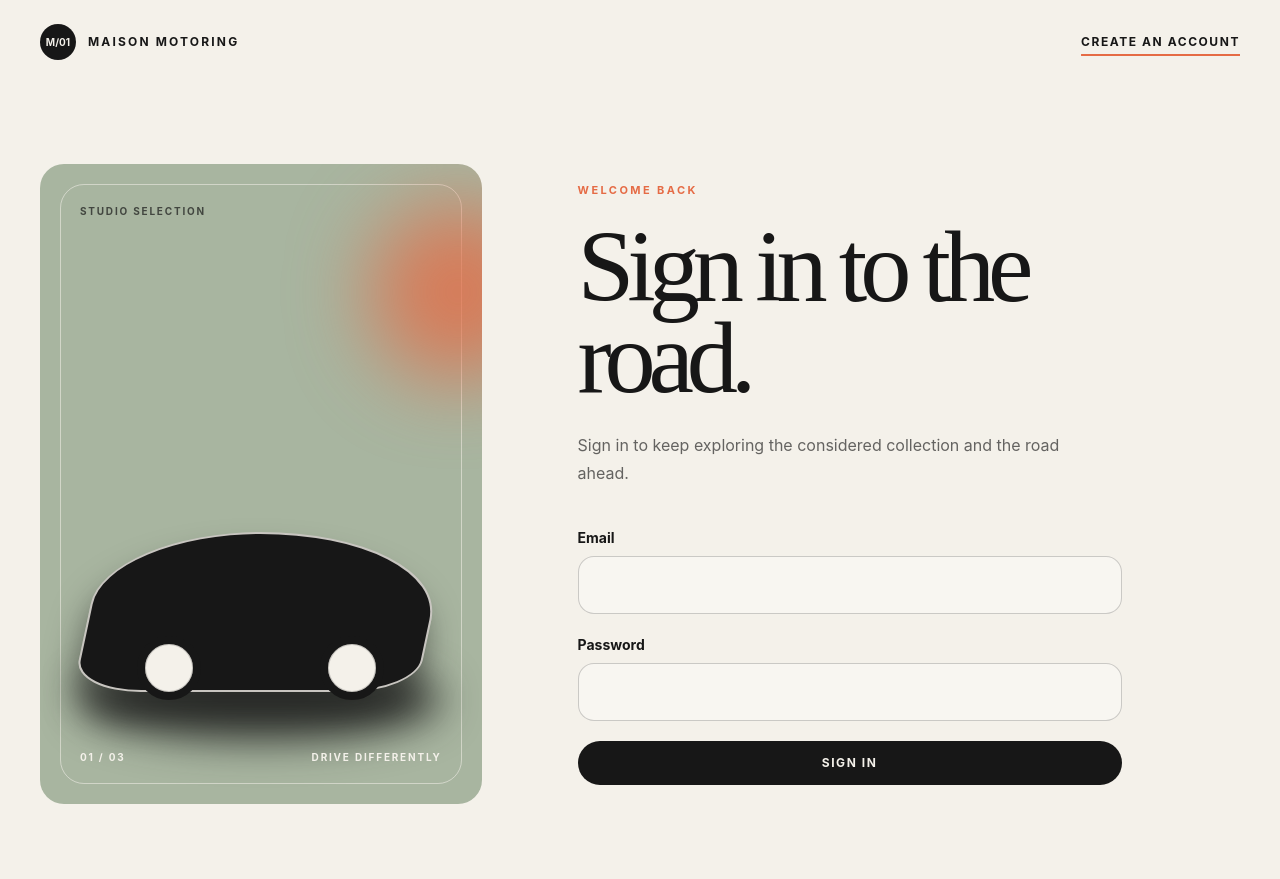
Test: frontend authentication › stores the JWT and safe user metadata after login, then opens inventory
Type "ada@example.test" into the field labelled "Email".
click(850, 585); type("ada@example.test")  # box [578, 556, 1122, 614]
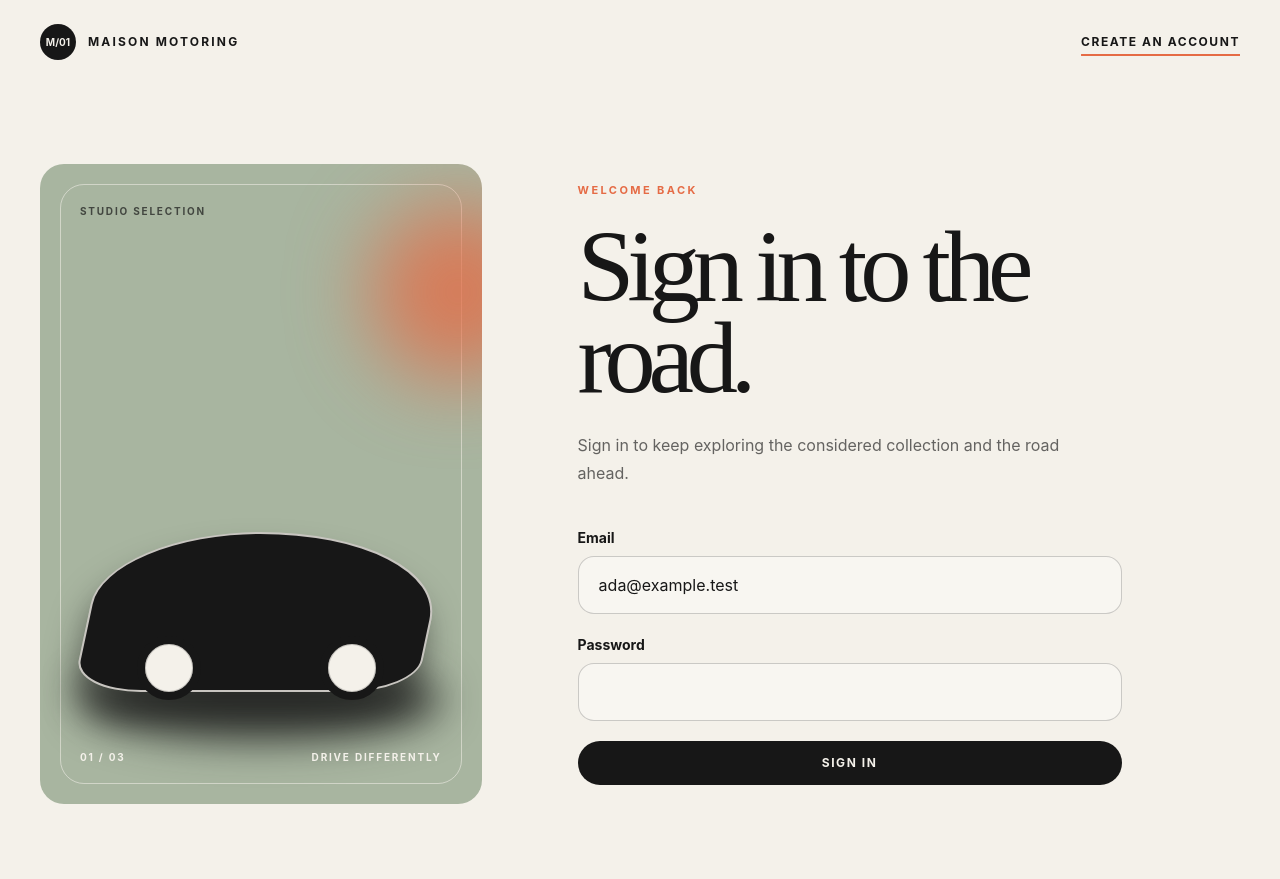
Type "SecurePass1" into the password field labelled "Password".
click(850, 692); type("SecurePass1")  # box [578, 663, 1122, 721]
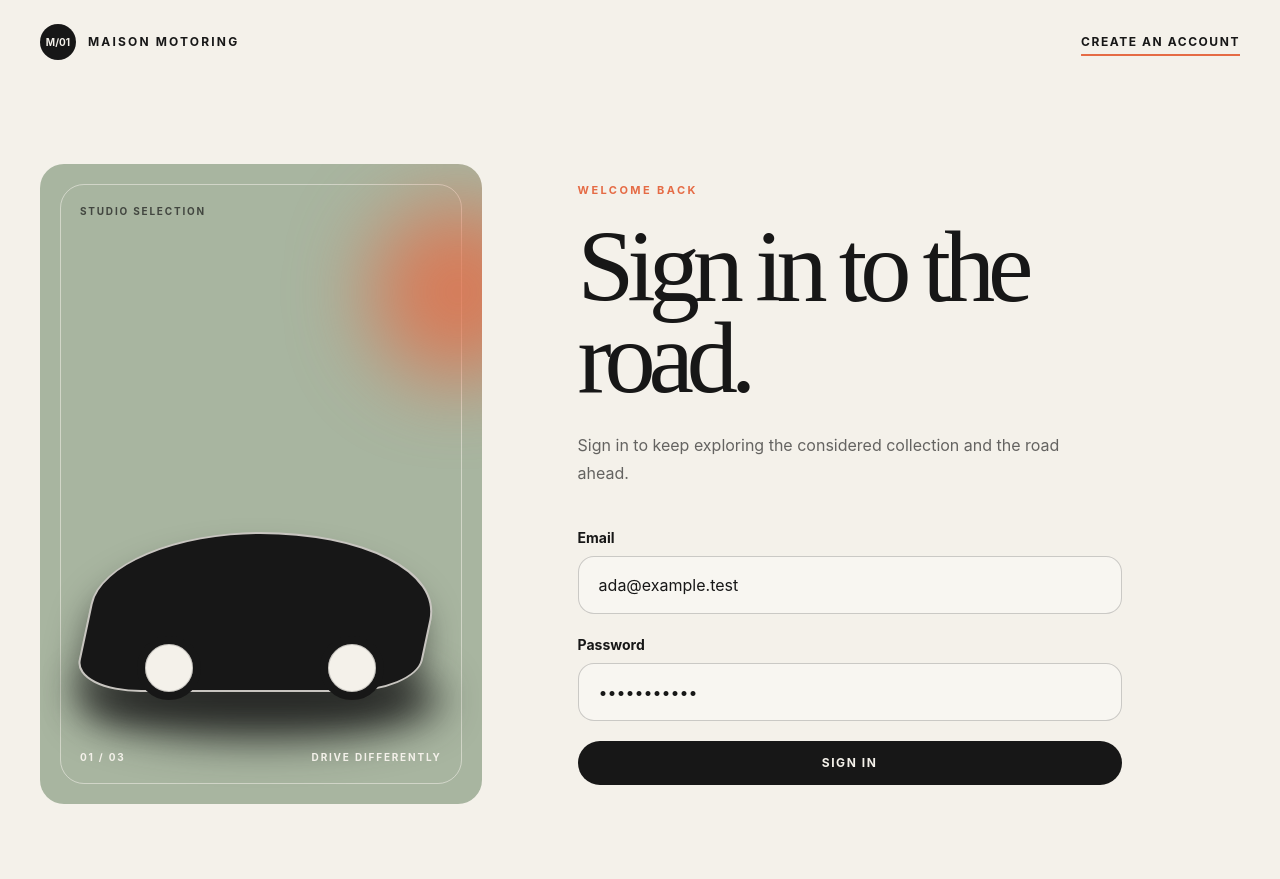
Submit the form named "login", box [578, 527, 1122, 785]
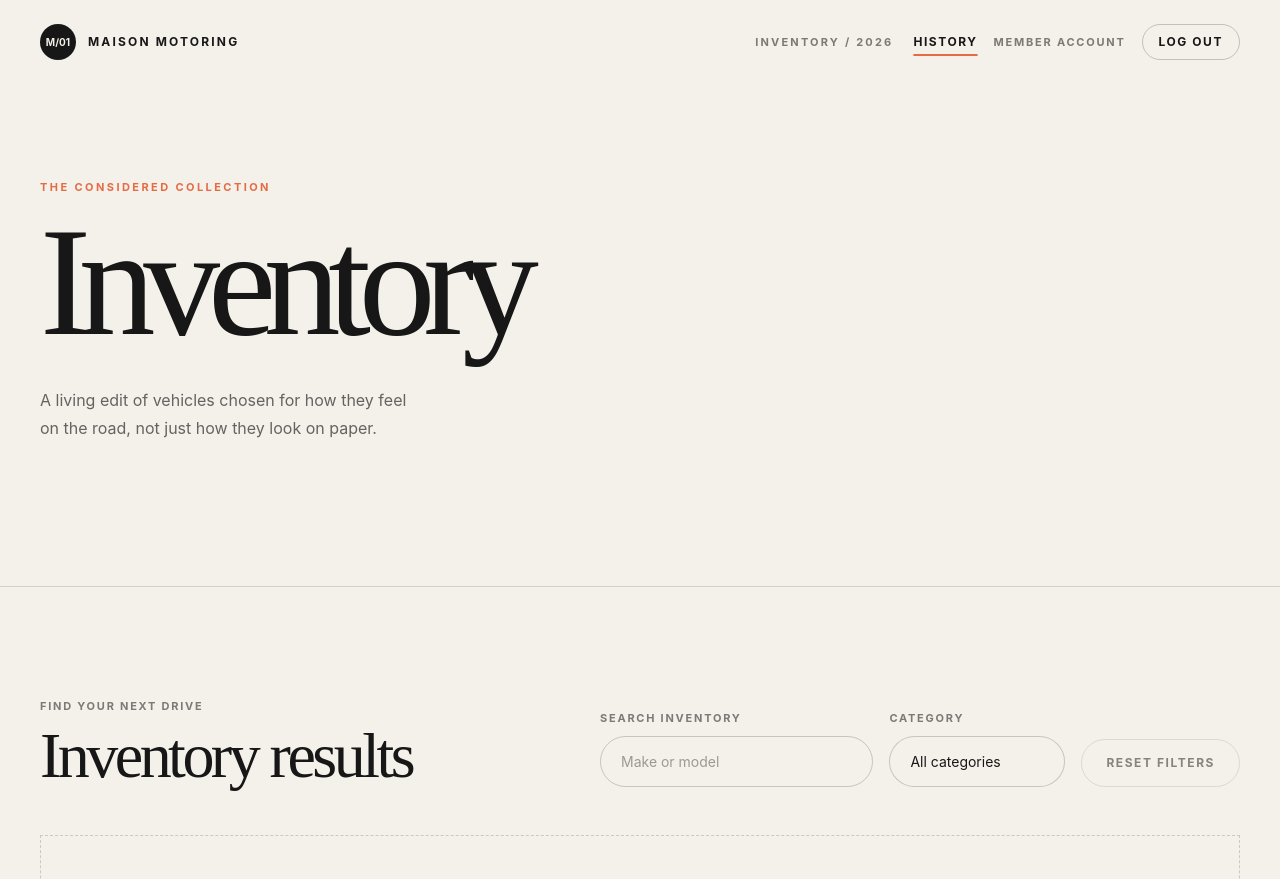
expect the heading "Inventory" is shown: met, box [40, 197, 526, 367]
